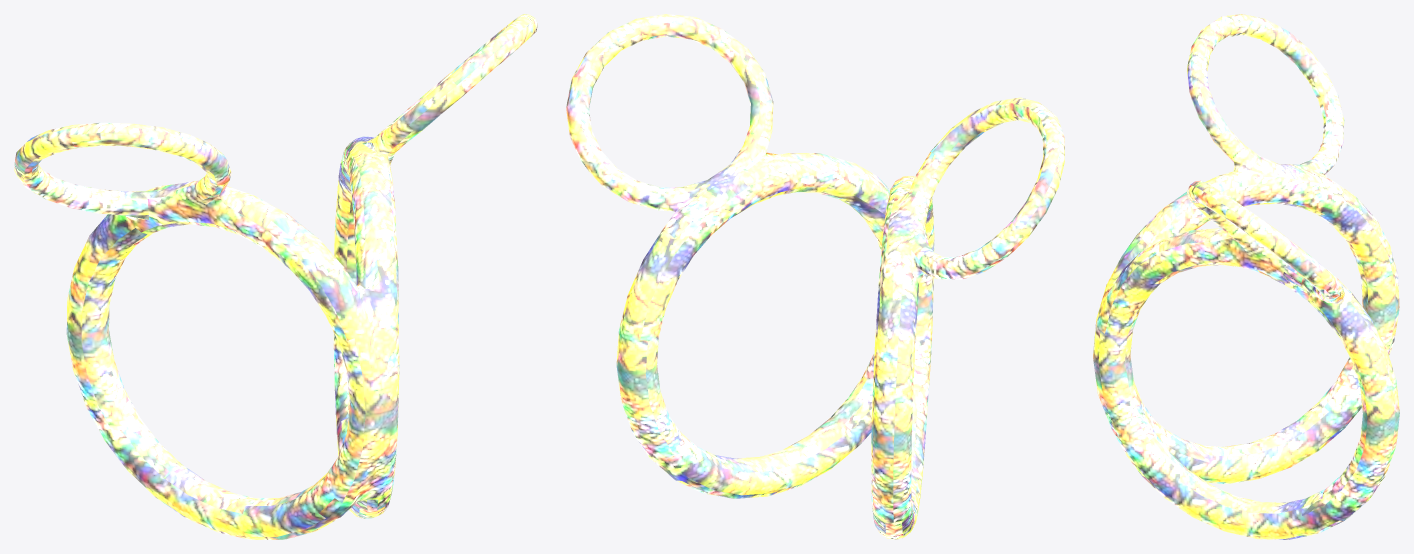
Rendered from ring.glb.
The picture shows the model from 3 angles, left to right: view 1: azimuth 30°, elevation 25°; view 2: azimuth 150°, elevation 25°; view 3: azimuth 270°, elevation 25°; orthographic projection. The views are drawn at different scales.
Visible parts, largest first — view 1: RINGS; view 2: RINGS; view 3: RINGS.
Part boxes in pixels (x1,y1,x2,y2): RINGS: (14,14,537,539); RINGS: (566,14,1064,539); RINGS: (1093,14,1399,539).
Bounding box in the file's own units: 17.63 × 15.24 × 10.56.
